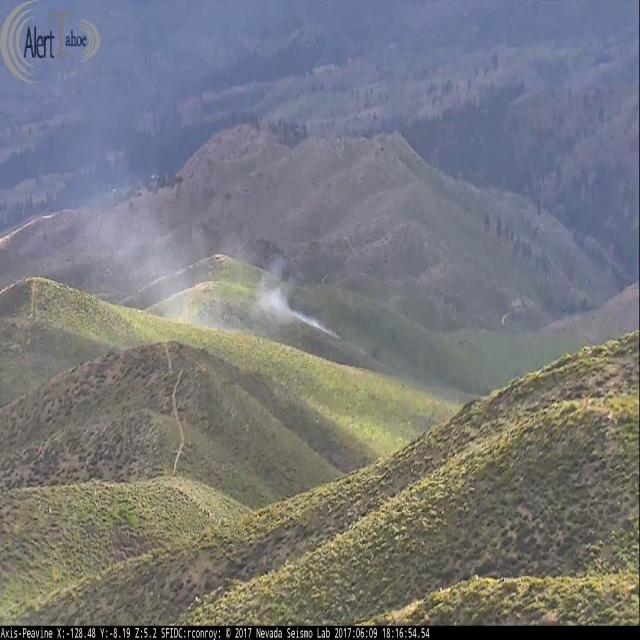smoke: (75, 120, 345, 344)
